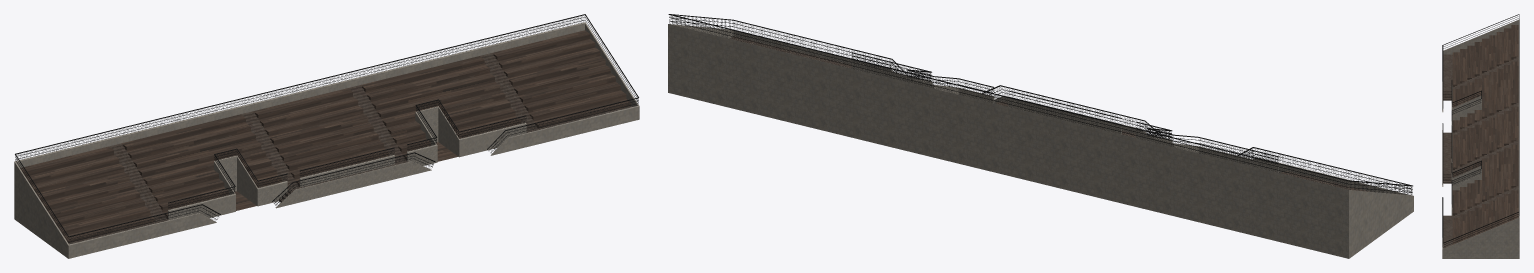
Rendered from Stand_A.FBX.
The picture shows the model from 3 angles, left to right: view 1: azimuth 30°, elevation 25°; view 2: azimuth 150°, elevation 25°; view 3: azimuth 270°, elevation 25°; orthographic projection. The views are drawn at different scales.
Parts seen in each view (by area): view 1: StandA_Setting_Floor, StandA_Setting_Walls, StandA_Setting_Railing, StandA_Setting_Railing_Road; view 2: StandA_Setting_Walls, StandA_Setting_Railing, StandA_Setting_Railing_Road; view 3: StandA_Setting_Floor, StandA_Setting_Walls, StandA_Setting_Railing, StandA_Setting_Railing_Road.
Boxes of the visible parts, x1,y1,x2,y2 form: StandA_Setting_Floor: (20,30,631,243); StandA_Setting_Walls: (14,22,639,258); StandA_Setting_Railing: (15,14,638,242); StandA_Setting_Railing_Road: (15,16,638,243); StandA_Setting_Walls: (668,24,1413,258); StandA_Setting_Railing: (668,14,1412,192); StandA_Setting_Railing_Road: (669,15,1412,194); StandA_Setting_Floor: (1452,25,1518,244); StandA_Setting_Walls: (1442,19,1519,258); StandA_Setting_Railing: (1442,14,1519,247); StandA_Setting_Railing_Road: (1452,162,1480,185).
Bounding box in the file's own units: 62674 × 6927 × 10321.
